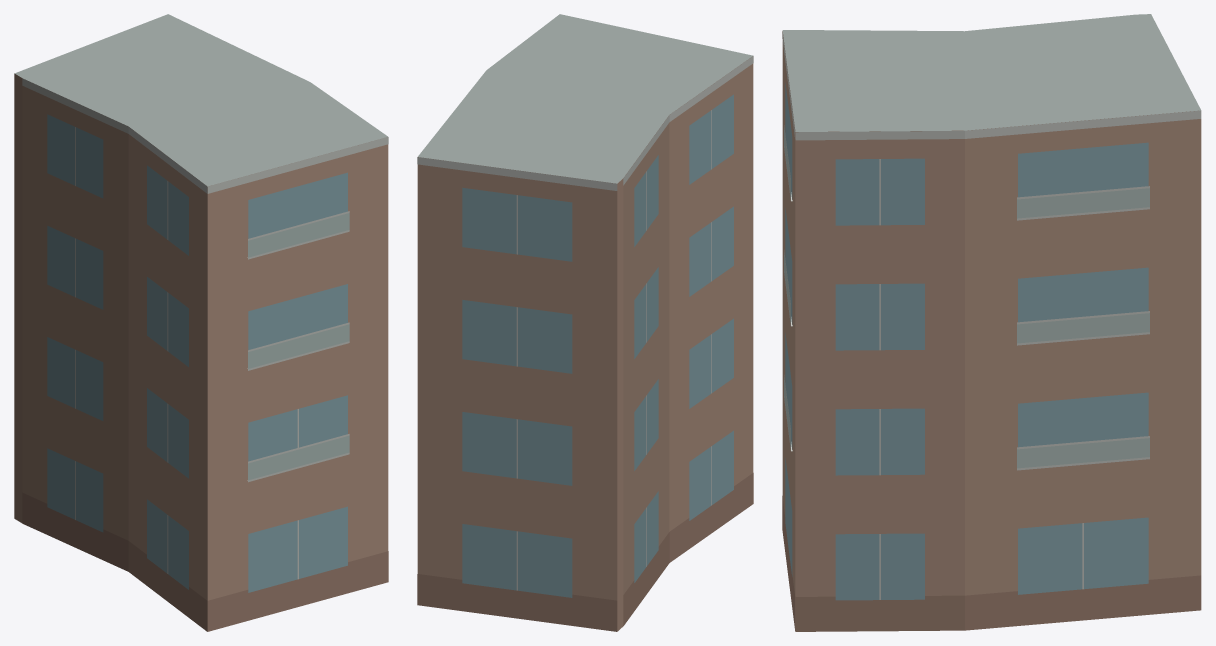
The model's file is survey-upis-32469272.glb.
The picture shows the model from 3 angles, left to right: view 1: azimuth 30°, elevation 25°; view 2: azimuth 150°, elevation 25°; view 3: azimuth 270°, elevation 25°; orthographic projection. The views are drawn at different scales.
Visible parts, largest first — view 1: survey-upis-32469272.tmp; view 2: survey-upis-32469272.tmp; view 3: survey-upis-32469272.tmp.
Part boxes in pixels (left/top/right/bottom): survey-upis-32469272.tmp: left=14, top=14, right=388, bottom=631; survey-upis-32469272.tmp: left=417, top=14, right=753, bottom=631; survey-upis-32469272.tmp: left=782, top=14, right=1201, bottom=631.
Bounding box in the file's own units: 7.4 × 14.6 × 11.1.
